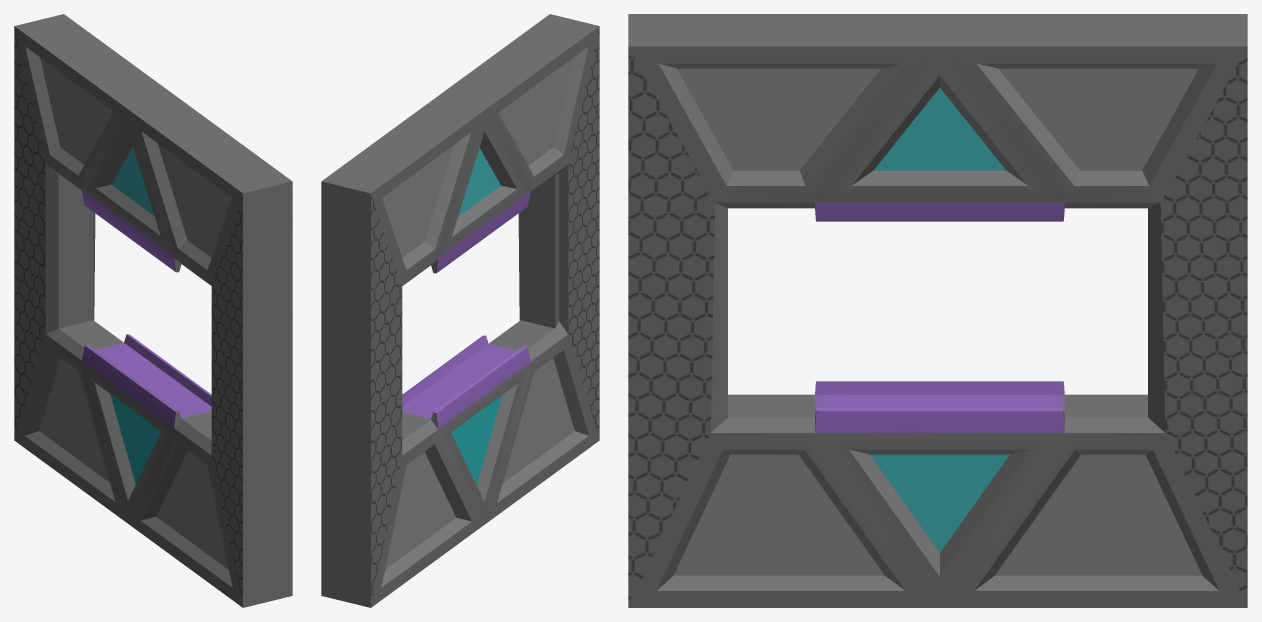
File: SM_B4_Wall3_SM_B4_Wall3.fbx
3 renders of one model, left to right at view 1: azimuth 30°, elevation 25°; view 2: azimuth 150°, elevation 25°; view 3: azimuth 270°, elevation 25°, orthographic. The views are drawn at different scales.
Visible parts, largest first — view 1: SM_B4_Wall3_SM_B4_Wall3; view 2: SM_B4_Wall3_SM_B4_Wall3; view 3: SM_B4_Wall3_SM_B4_Wall3.
Part boxes in pixels (x1,y1,x2,y2): SM_B4_Wall3_SM_B4_Wall3: (14, 14, 292, 607); SM_B4_Wall3_SM_B4_Wall3: (321, 14, 599, 607); SM_B4_Wall3_SM_B4_Wall3: (628, 14, 1247, 607).
Size of the model in its own units: 50.77 by 406 by 406.
